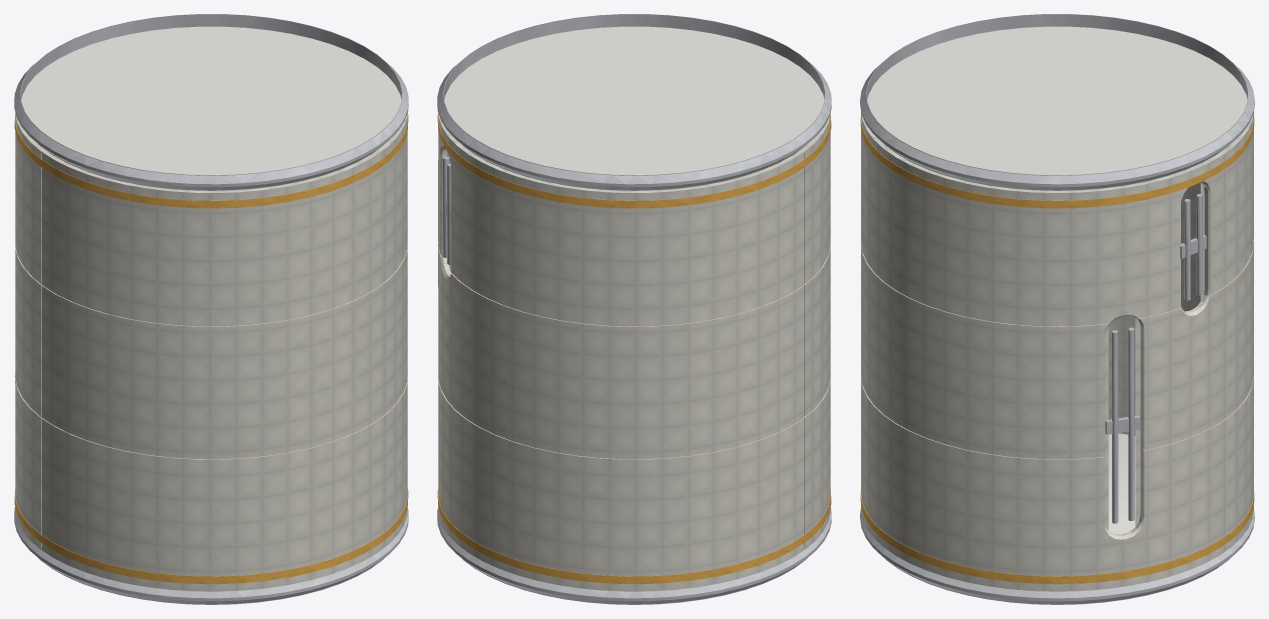
File: ax_tank_05_hydrolox_l_short.glb
3 renders of one model, left to right at view 1: azimuth 30°, elevation 25°; view 2: azimuth 150°, elevation 25°; view 3: azimuth 270°, elevation 25°, orthographic.
Parts seen in each view (by area): view 1: mli_blanket, dome_caps, end_rings, blanket_bands; view 2: mli_blanket, dome_caps, end_rings, blanket_bands, raceway_lines; view 3: mli_blanket, dome_caps, end_rings, blanket_bands, raceway_lines.
Part boxes in pixels (x1,y1,x2,y2): mli_blanket: (15,113,407,591); dome_caps: (21,26,401,175); end_rings: (14,14,408,604); blanket_bands: (14,113,408,584); mli_blanket: (438,113,830,591); dome_caps: (444,26,824,175); end_rings: (437,14,831,604); blanket_bands: (437,113,831,584); raceway_lines: (442,156,451,269); mli_blanket: (861,112,1253,591); dome_caps: (867,26,1247,534); end_rings: (860,14,1254,604); blanket_bands: (860,116,1254,584); raceway_lines: (1105,194,1206,523).
Bounding box in the file's own units: 3.75 × 4.5 × 3.75.
Materials: 4 (3 with a texture image).
